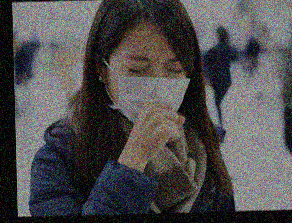with_mask: (108, 51, 191, 124)
